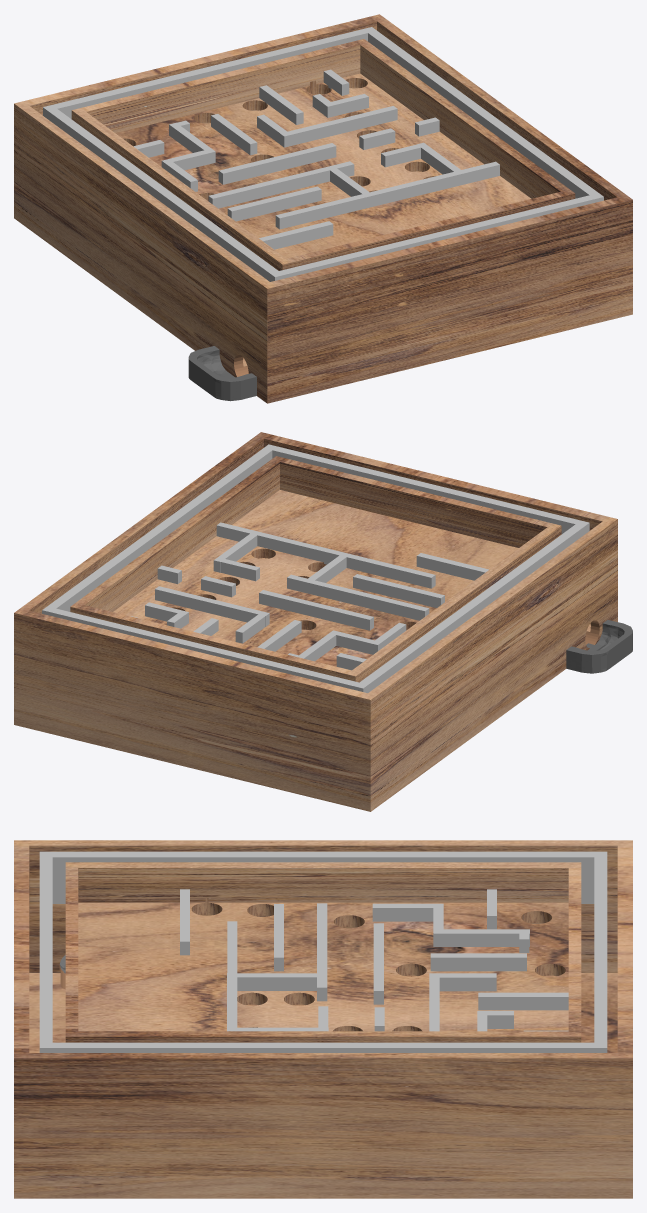
File: maze-1-v2.dae
The picture shows the model from 3 angles, top to bottom: view 1: azimuth 30°, elevation 25°; view 2: azimuth 150°, elevation 25°; view 3: azimuth 270°, elevation 25°; orthographic projection. The views are drawn at different scales.
Visible parts, largest first — view 1: Cube, Cube.003, Cube.002, Cube.001, Cube.005, Cube.017, Cube.016, Cube.009, Cube.024, Cube.025, Cube.026, Cube.015 (+8 smaller); view 2: Cube, Cube.003, Cube.002, Cube.001, Cube.017, Cube.016, Cube.005, Cube.009, Cube.024, Cube.025, Cube.026, Cube.004 (+7 smaller); view 3: Cube, Cube.003, Cube.002, Cube.015, Cube.013, Cube.021, Cube.018, Cube.019, Cube.014, Cube.017, Cube.016, Cube.024 (+4 smaller).
Boxes of the visible parts, x1,y1,x2,y2 form: Cube: (14,14,632,403); Cube.003: (71,39,575,270); Cube.002: (43,27,603,281); Cube.001: (188,346,256,401); Cube.005: (363,161,499,208); Cube.017: (208,161,354,208); Cube.016: (218,143,336,184); Cube.009: (280,106,397,147); Cube.024: (227,186,321,221); Cube.025: (275,194,368,229); Cube.026: (259,221,333,249); Cube.015: (211,114,257,155); Cube: (14,432,617,811); Cube.003: (70,456,561,682); Cube.002: (42,444,589,692); Cube.001: (566,620,632,673); Cube.017: (287,574,429,620); Cube.016: (259,590,373,630); Cube.005: (216,522,350,564); Cube.009: (155,586,269,626); Cube.024: (353,574,444,607); Cube.025: (346,554,435,588); Cube.026: (416,553,488,580); Cube.004: (213,532,257,572); Cube: (14,840,632,1198); Cube.003: (65,862,581,1042); Cube.002: (39,851,607,1052); Cube.015: (430,953,526,971); Cube.013: (478,992,568,1010); Cube.021: (434,929,529,946); Cube.018: (237,973,320,990); Cube.019: (372,903,443,921); Cube.014: (439,973,496,991); Cube.017: (317,903,327,1001); Cube.016: (373,923,383,1004); Cube.024: (274,904,283,971).
Bounding box in the file's own units: 218 × 240 × 60.
